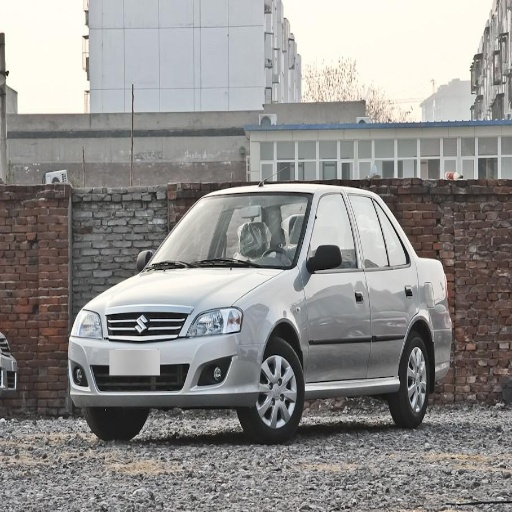front_bumper: (68, 306, 266, 406)
front_glass: (148, 196, 312, 268)
front_left_door: (303, 192, 371, 383)
